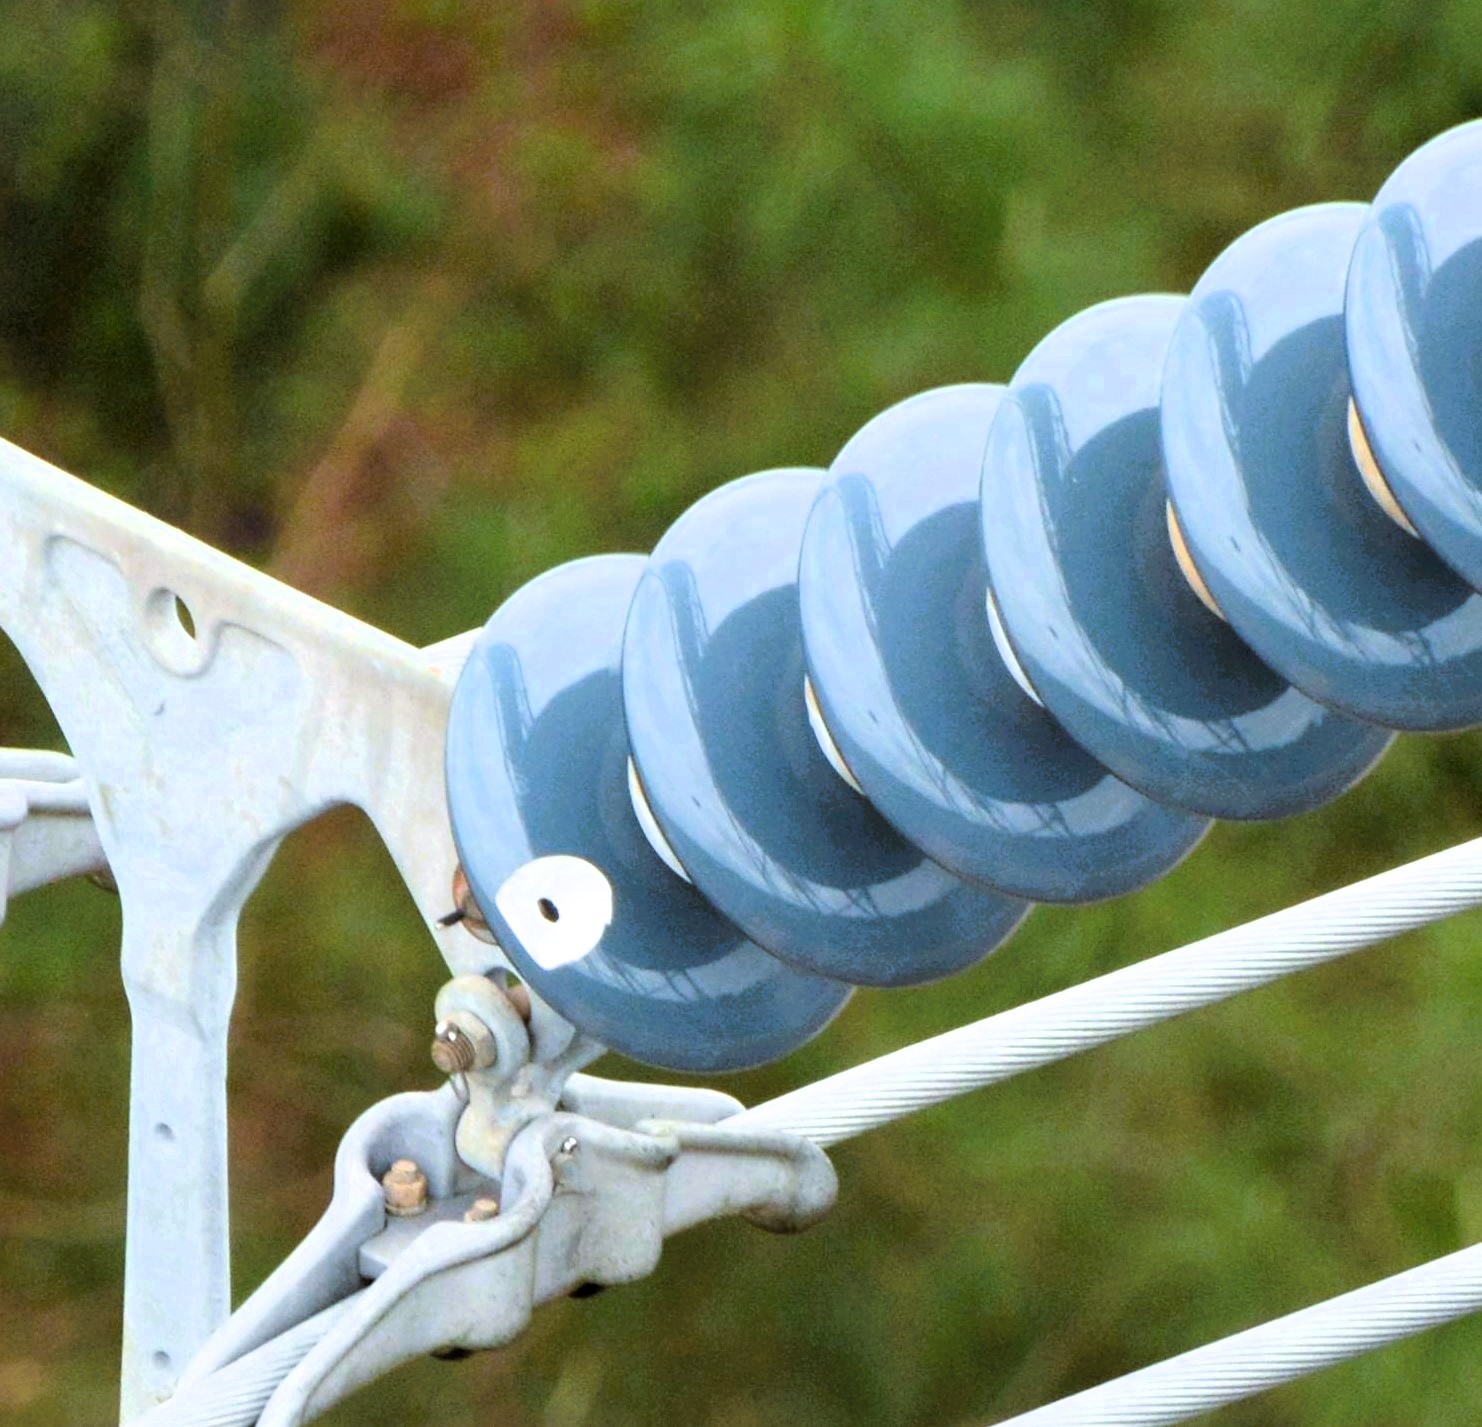insulator breakage: (445, 522, 783, 1076)
